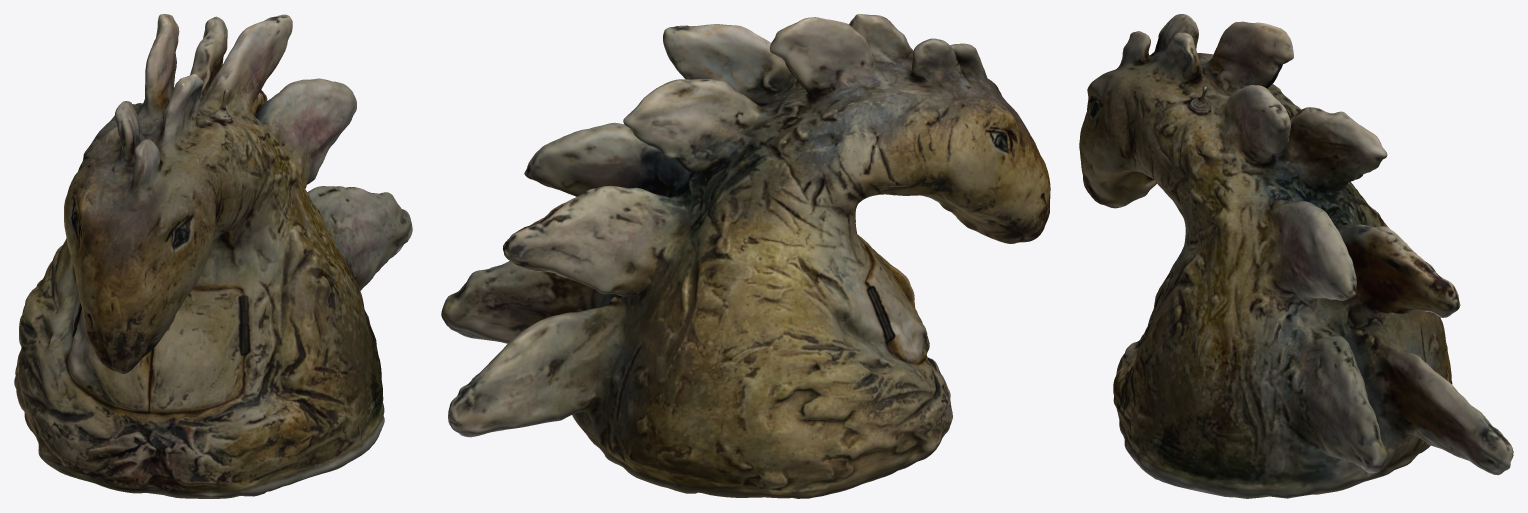
Rendered from sculpture3_masked_level_web.glb.
The picture shows the model from 3 angles, left to right: view 1: azimuth 30°, elevation 25°; view 2: azimuth 150°, elevation 25°; view 3: azimuth 270°, elevation 25°; orthographic projection. The views are drawn at different scales.
Parts seen in each view (by area): view 1: ObjectCapture; view 2: ObjectCapture; view 3: ObjectCapture.
Boxes of the visible parts, x1,y1,x2,y2 form: ObjectCapture: (14,14,412,498); ObjectCapture: (441,14,1050,498); ObjectCapture: (1079,14,1513,498).
Bounding box in the file's own units: 0.2452 × 0.2153 × 0.2152.
Materials: 1 (1 with a texture image).
